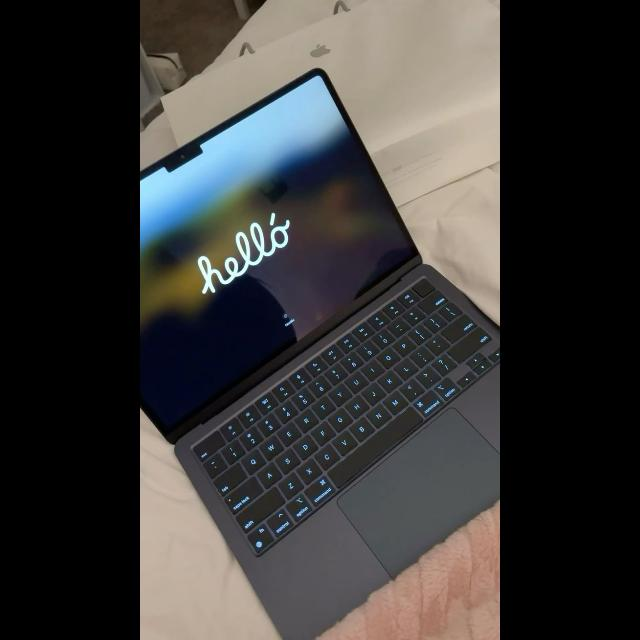laptop: (140, 68, 500, 640)
